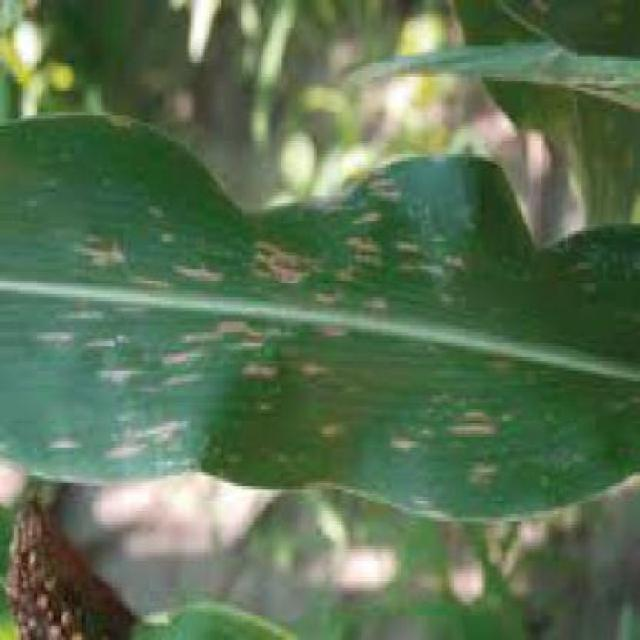Corn_Grey_Leaf_Spot: (0, 106, 640, 528)
